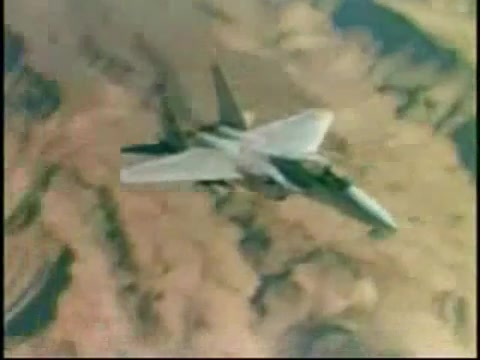aeroplane: (122, 61, 398, 233)
